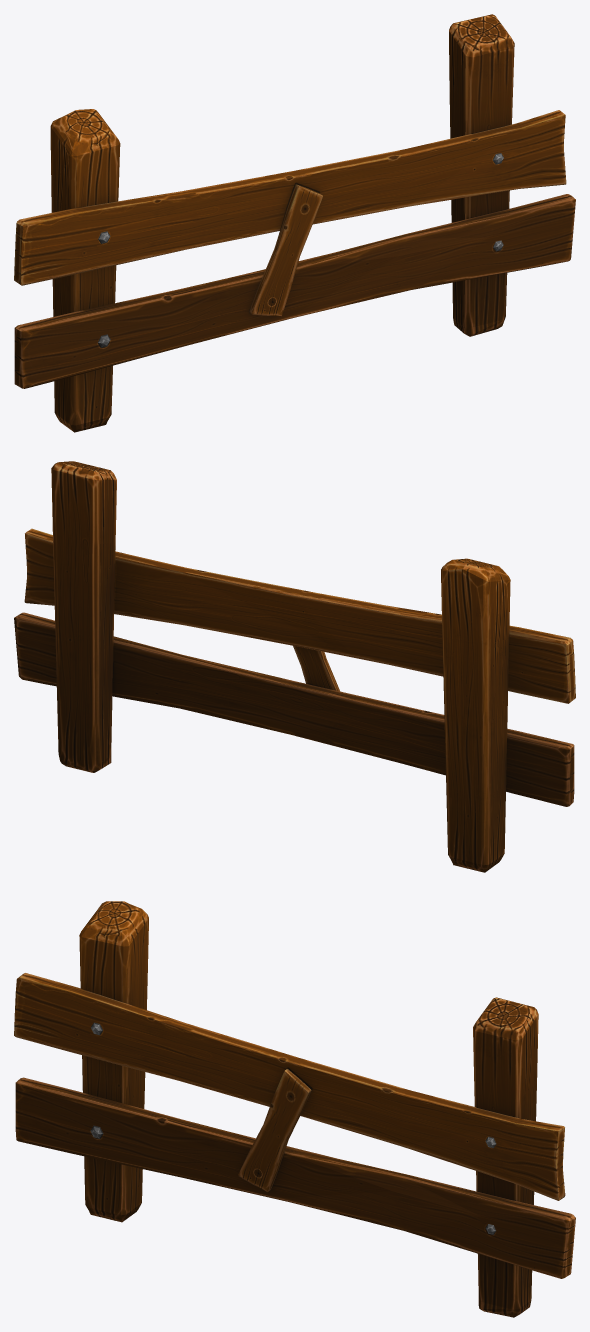
File: HOS0710003.FBX
3 renders of one model, top to bottom at view 1: azimuth 30°, elevation 25°; view 2: azimuth 150°, elevation 25°; view 3: azimuth 330°, elevation 25°, orthographic.
Parts seen in each view (by area): view 1: smHOS0710003; view 2: smHOS0710003; view 3: smHOS0710003.
Part boxes in pixels (<box>): smHOS0710003: <box>14,14,575,432</box>; smHOS0710003: <box>14,461,575,872</box>; smHOS0710003: <box>14,901,575,1317</box>.
Size of the model in its own units: 193 by 101 by 20.4.
Materials: 1 (1 with a texture image).
